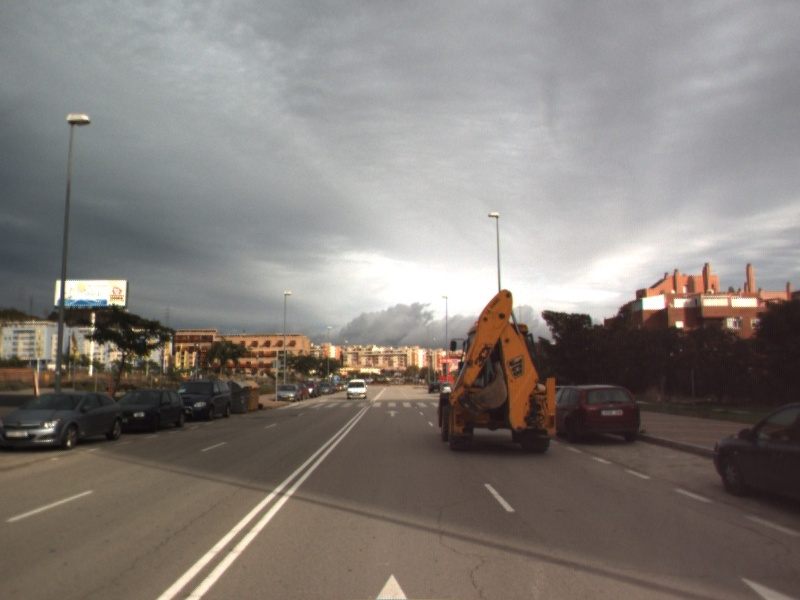STRAIGHT: (384, 408, 401, 418)
